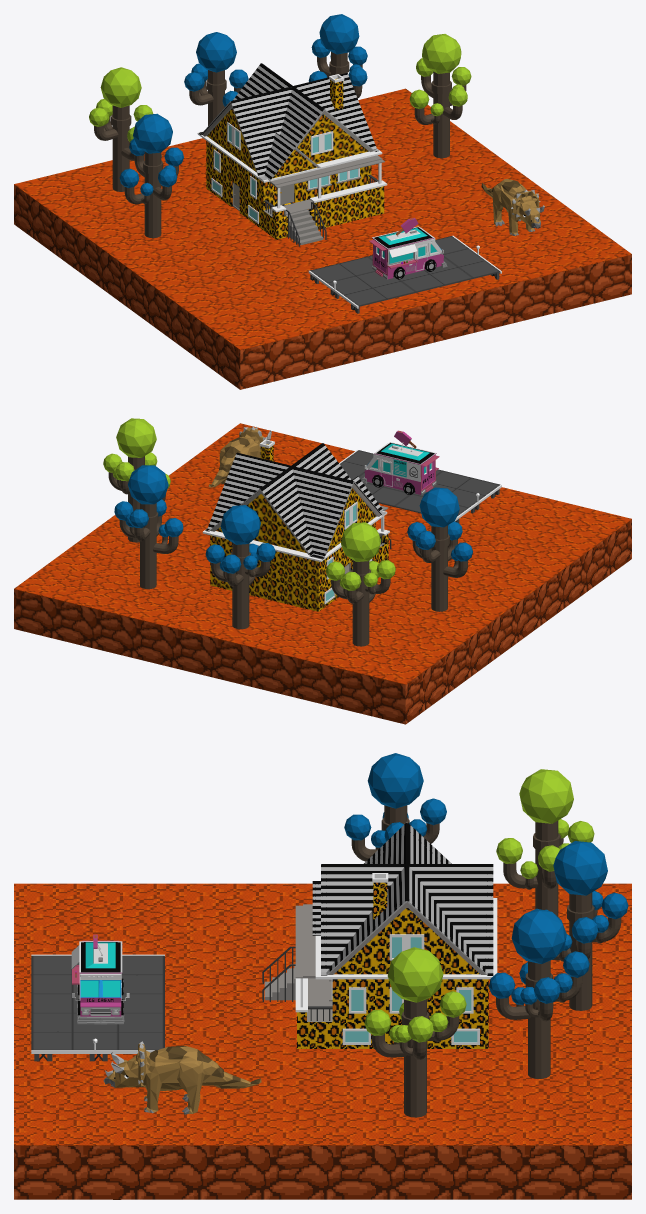
The picture shows the model from 3 angles, top to bottom: view 1: azimuth 30°, elevation 25°; view 2: azimuth 150°, elevation 25°; view 3: azimuth 270°, elevation 25°; orthographic projection. The views are drawn at different scales.
Parts seen in each view (by area): view 1: Cube.001, Cube.637, VEHICLES_ICE_CREAM_TRUCK, ANIMAL_Triceratops; view 2: Cube.001, Cube.637, VEHICLES_ICE_CREAM_TRUCK, ANIMAL_Triceratops; view 3: Cube.001, Cube.637, ANIMAL_Triceratops, VEHICLES_ICE_CREAM_TRUCK.
Part boxes in pixels (x1=…): Cube.001: x1=14, y1=14, x2=631, y2=389; Cube.637: x1=197, y1=63, x2=387, y2=246; VEHICLES_ICE_CREAM_TRUCK: x1=369, y1=218, x2=447, y2=279; ANIMAL_Triceratops: x1=481, y1=179, x2=544, y2=235; Cube.001: x1=14, y1=418, x2=631, y2=724; Cube.637: x1=202, y1=439, x2=391, y2=611; VEHICLES_ICE_CREAM_TRUCK: x1=361, y1=430, x2=439, y2=494; ANIMAL_Triceratops: x1=208, y1=427, x2=271, y2=487; Cube.001: x1=14, y1=753, x2=631, y2=1199; Cube.637: x1=262, y1=822, x2=497, y2=1048; ANIMAL_Triceratops: x1=103, y1=1041, x2=261, y2=1114; VEHICLES_ICE_CREAM_TRUCK: x1=71, y1=934, x2=129, y2=1024.
Size of the model in its own units: 4000 by 1637 by 4000.
38 materials, 5 textured.
